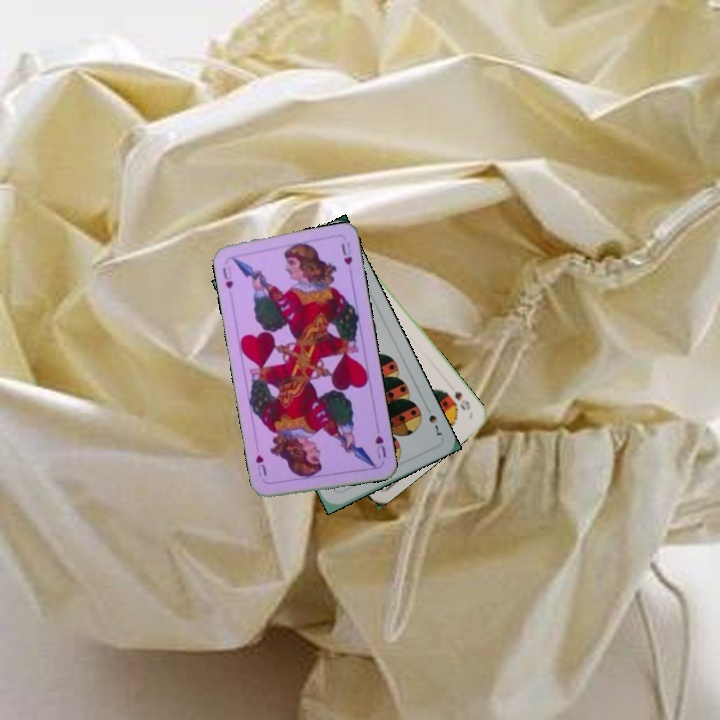HU: (218, 262, 236, 291), (371, 432, 388, 461)
S7: (425, 410, 445, 438)
SO: (442, 386, 473, 413)
